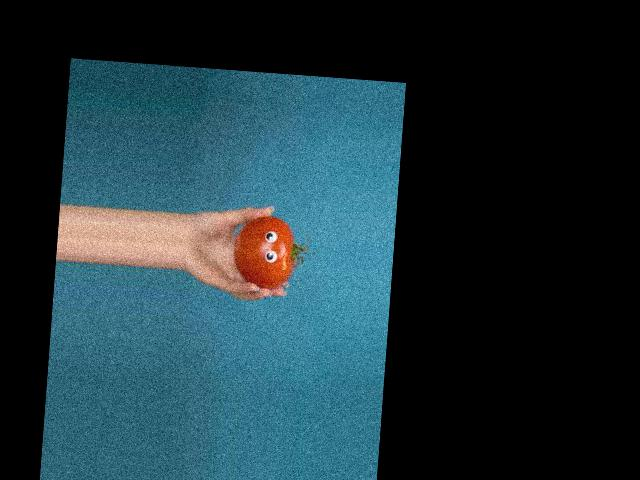tomato: (230, 213, 298, 291)
